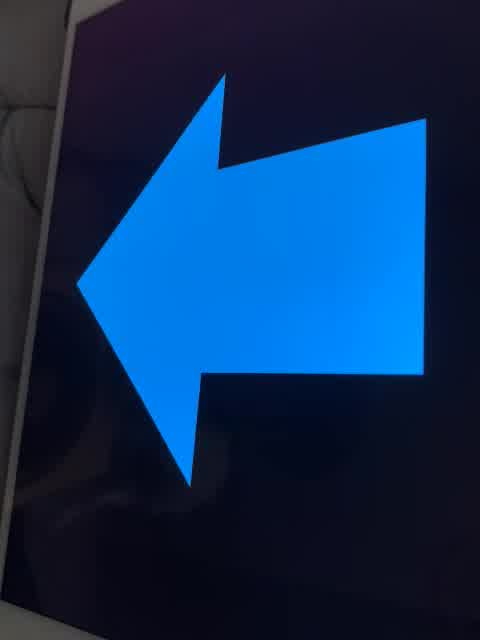left: (70, 67, 442, 494)
